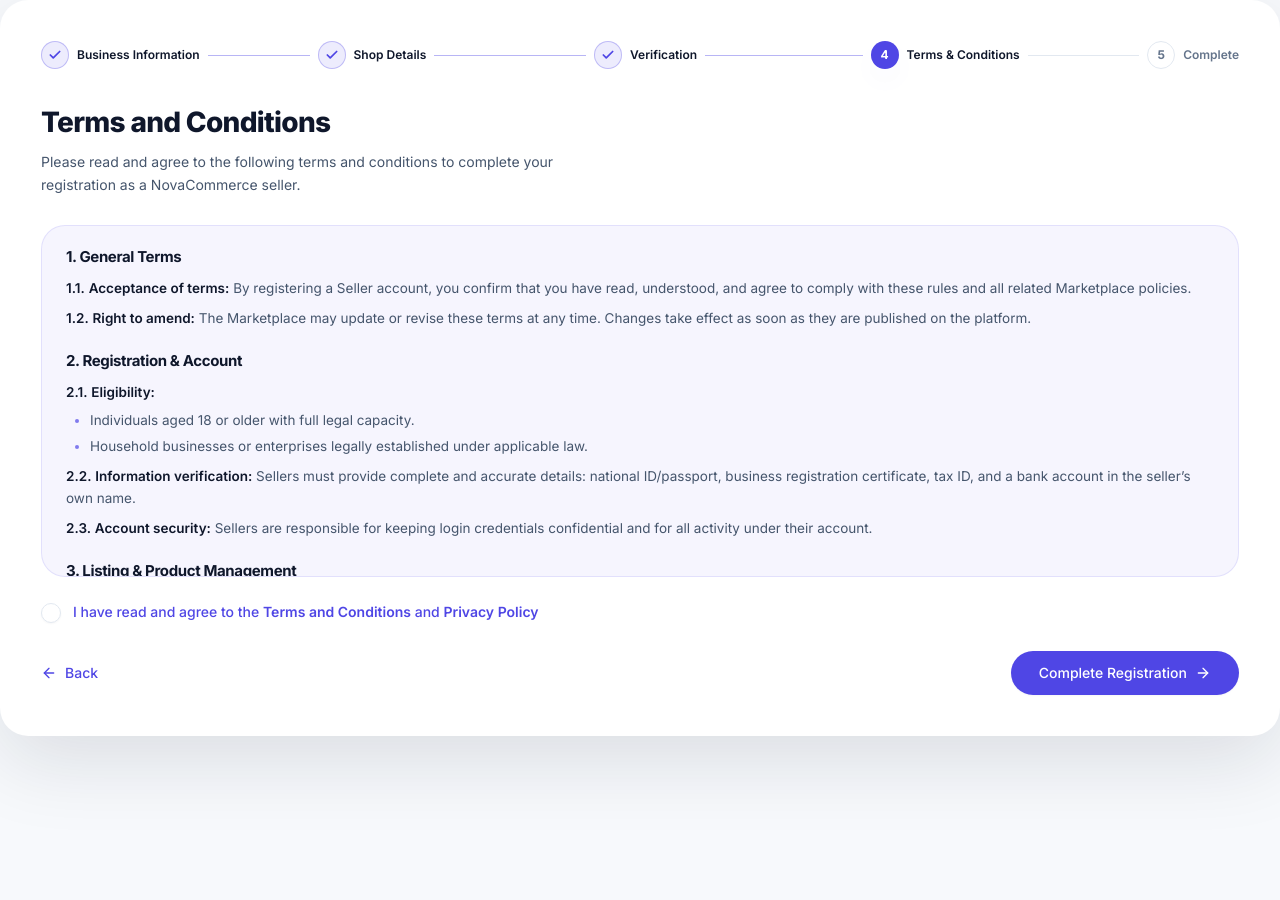
Scenario: SellerRegisterForm terms › advances to complete after the seller terms are accepted
Click the checkbox named "terms and conditions and privacy policy" at (51, 612), box [41,602,61,622]
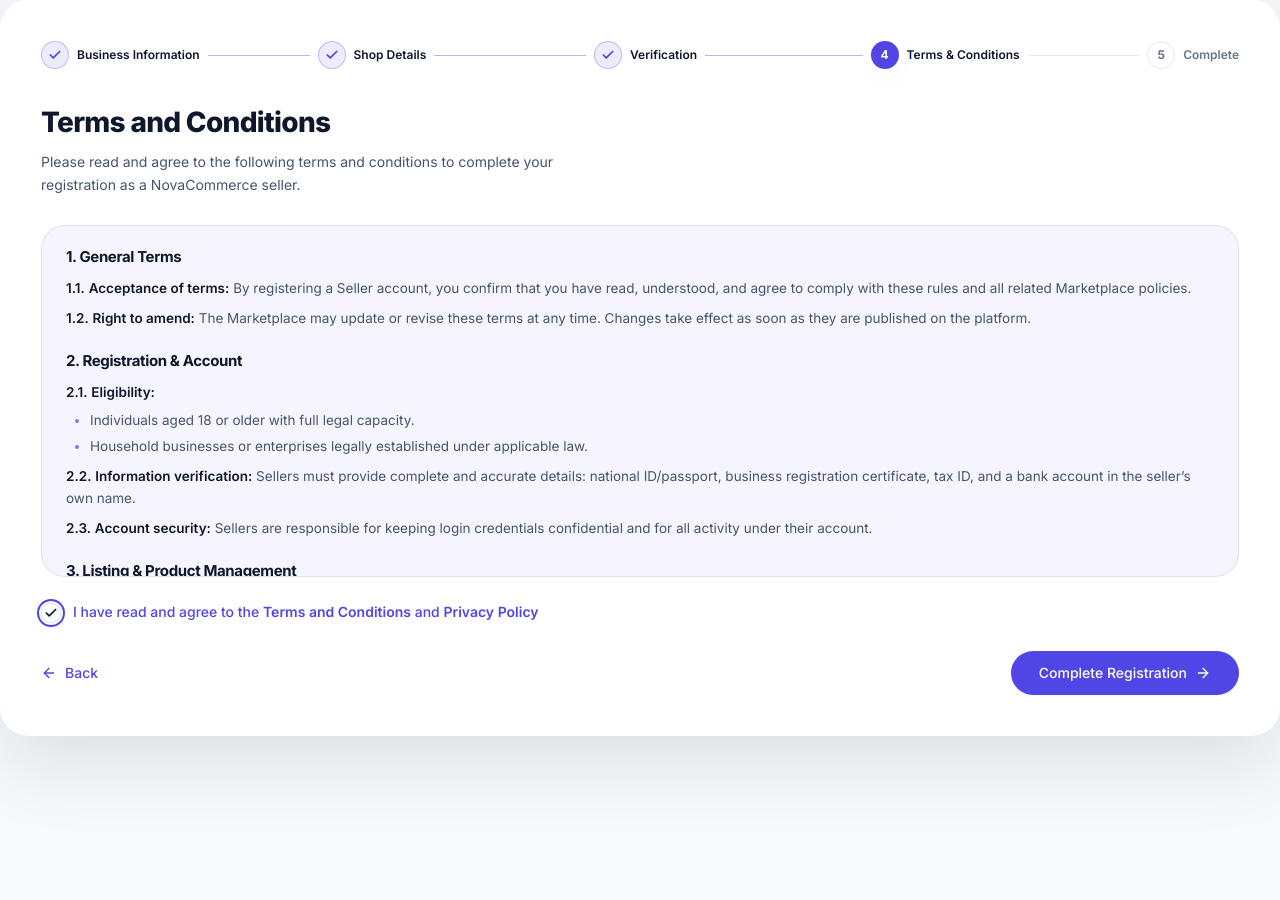
Click the button "Complete Registration" at (1125, 673), box [1011,651,1239,695]
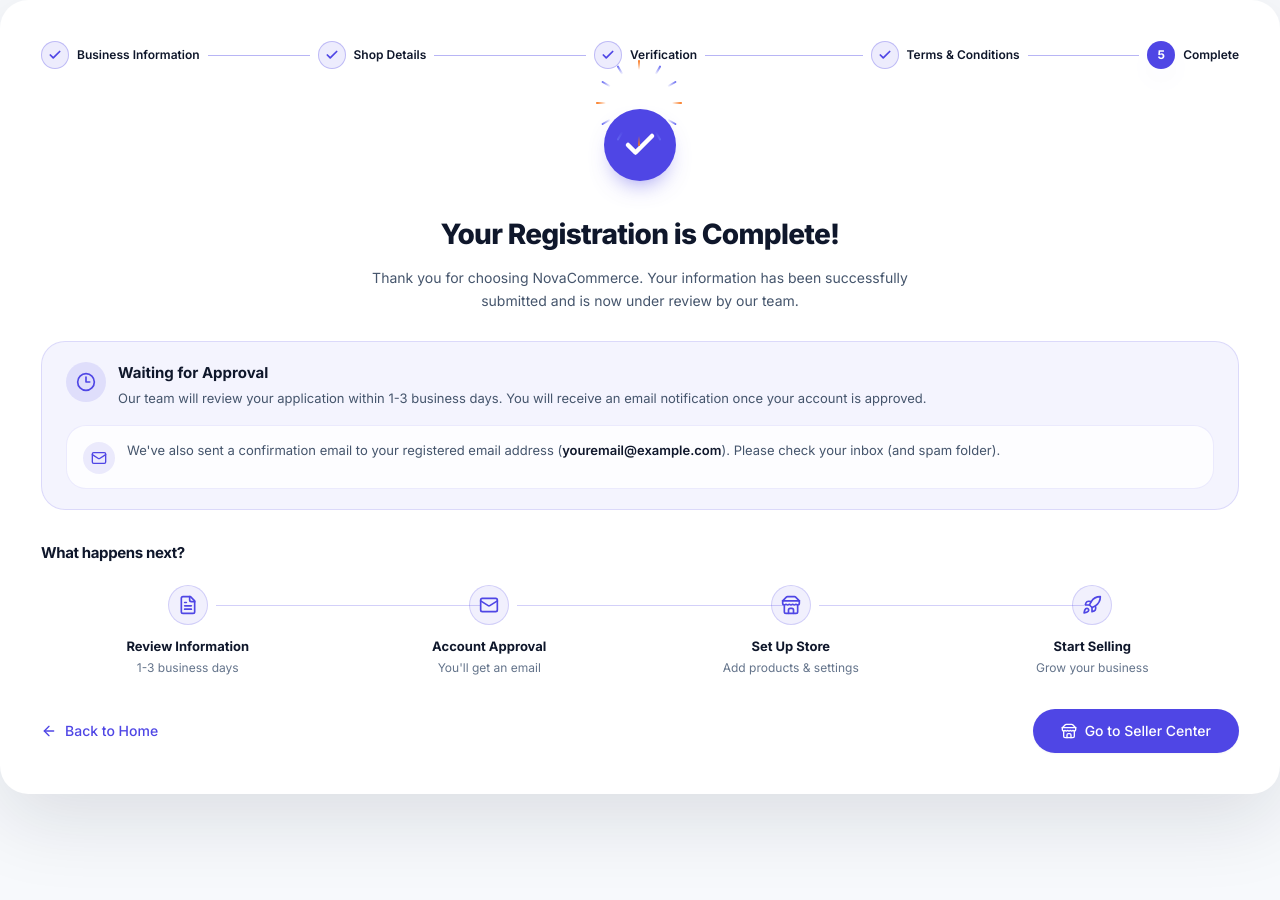
Check: the heading "Your Registration is Complete!" is shown, box [440,213,839,255]
Check: the text "Waiting for Approval" is shown, box [118,362,268,382]
Check: the heading "What happens next?" is shown, box [41,543,185,562]
